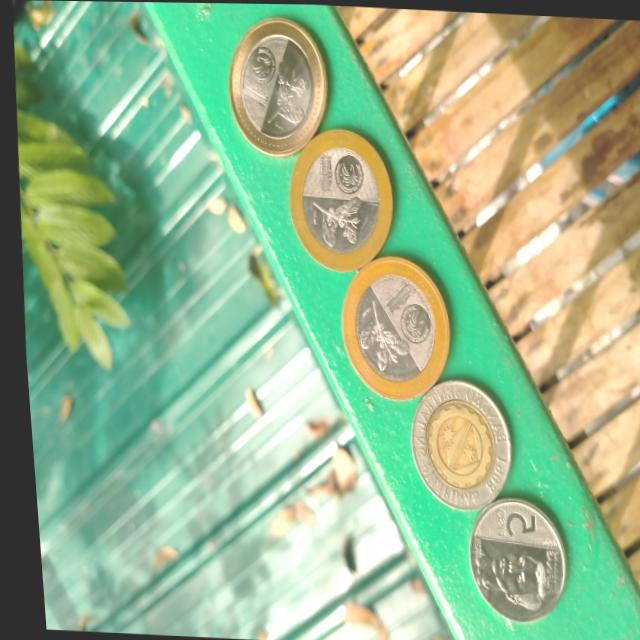10_Old_Back: (399, 380, 504, 502)
20_New_Back: (284, 185, 376, 259), (255, 42, 322, 143), (345, 292, 401, 375)
5_New_Front: (489, 507, 537, 542)
